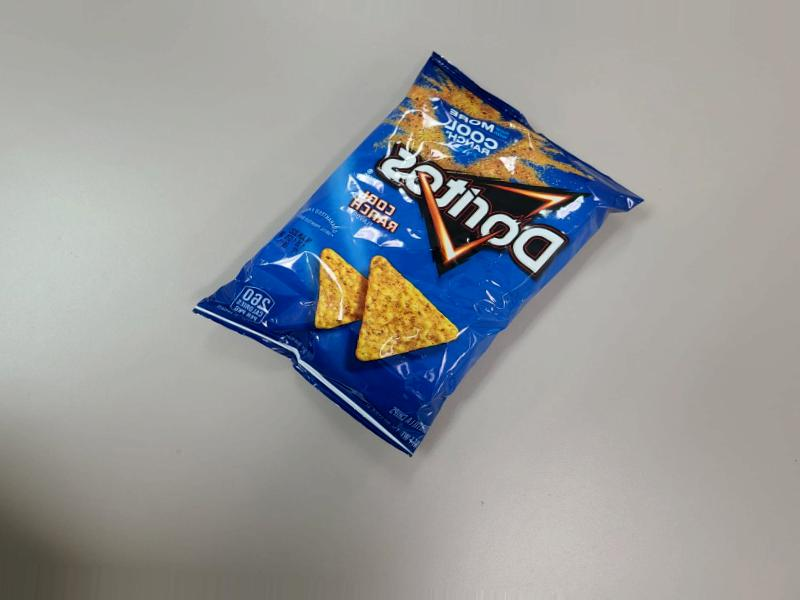doritos: (265, 157, 687, 498)
